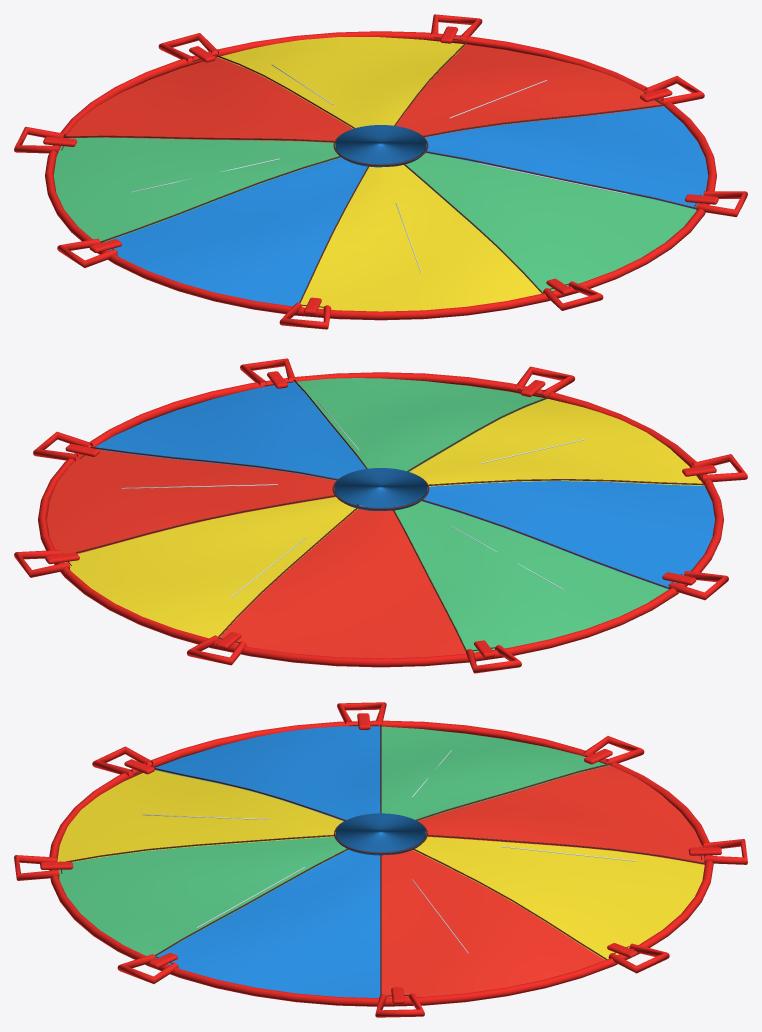
Rendered from Schwungtuch_3D.glb.
3 views of the same model, one above another, from view 1: azimuth 30°, elevation 25°; view 2: azimuth 150°, elevation 25°; view 3: azimuth 270°, elevation 25° (orthographic). The views are drawn at different scales.
Visible parts, largest first — view 1: Schwungtuch_3D__web_green_nylon_schwungtuch_fabric_panels, Schwungtuch_3D__web_blue_nylon_schwungtuch_fabric_panels, Schwungtuch_3D__web_yellow_nylon_schwungtuch_fabric_panels, Schwungtuch_3D__web_red_nylon_schwungtuch_fabric_panels, Schwungtuch_3D__web_raised_red_outer_binding_and_handles_on_, Schwungtuch_3D__web_dark_stitched_seams_on_schwungtuch_fabri, Schwungtuch_3D__web_blue_circular_center_patch_on_schwungtuc, Schwungtuch_3D__web_soft_white_sheen_streaks_on_nylon_schwun; view 2: Schwungtuch_3D__web_red_nylon_schwungtuch_fabric_panels, Schwungtuch_3D__web_yellow_nylon_schwungtuch_fabric_panels, Schwungtuch_3D__web_green_nylon_schwungtuch_fabric_panels, Schwungtuch_3D__web_blue_nylon_schwungtuch_fabric_panels, Schwungtuch_3D__web_raised_red_outer_binding_and_handles_on_, Schwungtuch_3D__web_dark_stitched_seams_on_schwungtuch_fabri, Schwungtuch_3D__web_blue_circular_center_patch_on_schwungtuc, Schwungtuch_3D__web_soft_white_sheen_streaks_on_nylon_schwun; view 3: Schwungtuch_3D__web_red_nylon_schwungtuch_fabric_panels, Schwungtuch_3D__web_yellow_nylon_schwungtuch_fabric_panels, Schwungtuch_3D__web_blue_nylon_schwungtuch_fabric_panels, Schwungtuch_3D__web_green_nylon_schwungtuch_fabric_panels, Schwungtuch_3D__web_raised_red_outer_binding_and_handles_on_, Schwungtuch_3D__web_dark_stitched_seams_on_schwungtuch_fabri, Schwungtuch_3D__web_blue_circular_center_patch_on_schwungtuc, Schwungtuch_3D__web_soft_white_sheen_streaks_on_nylon_schwun.
Boxes of the visible parts, <box> form: Schwungtuch_3D__web_green_nylon_schwungtuch_fabric_panels: <box>53,137,696,292</box>; Schwungtuch_3D__web_blue_nylon_schwungtuch_fabric_panels: <box>106,106,708,306</box>; Schwungtuch_3D__web_yellow_nylon_schwungtuch_fabric_panels: <box>217,37,541,311</box>; Schwungtuch_3D__web_red_nylon_schwungtuch_fabric_panels: <box>65,44,663,142</box>; Schwungtuch_3D__web_raised_red_outer_binding_and_handles_on_: <box>14,14,747,329</box>; Schwungtuch_3D__web_dark_stitched_seams_on_schwungtuch_fabri: <box>61,37,700,307</box>; Schwungtuch_3D__web_blue_circular_center_patch_on_schwungtuc: <box>335,125,426,167</box>; Schwungtuch_3D__web_soft_white_sheen_streaks_on_nylon_schwun: <box>130,64,628,273</box>; Schwungtuch_3D__web_red_nylon_schwungtuch_fabric_panels: <box>47,450,465,658</box>; Schwungtuch_3D__web_yellow_nylon_schwungtuch_fabric_panels: <box>64,399,704,638</box>; Schwungtuch_3D__web_green_nylon_schwungtuch_fabric_panels: <box>295,378,668,652</box>; Schwungtuch_3D__web_blue_nylon_schwungtuch_fabric_panels: <box>95,382,714,589</box>; Schwungtuch_3D__web_raised_red_outer_binding_and_handles_on_: <box>14,358,747,673</box>; Schwungtuch_3D__web_dark_stitched_seams_on_schwungtuch_fabri: <box>62,379,704,651</box>; Schwungtuch_3D__web_blue_circular_center_patch_on_schwungtuc: <box>334,468,427,510</box>; Schwungtuch_3D__web_soft_white_sheen_streaks_on_nylon_schwun: <box>121,400,585,598</box>; Schwungtuch_3D__web_red_nylon_schwungtuch_fabric_panels: <box>381,765,704,997</box>; Schwungtuch_3D__web_yellow_nylon_schwungtuch_fabric_panels: <box>57,770,704,959</box>; Schwungtuch_3D__web_blue_nylon_schwungtuch_fabric_panels: <box>154,726,380,997</box>; Schwungtuch_3D__web_green_nylon_schwungtuch_fabric_panels: <box>58,726,609,956</box>; Schwungtuch_3D__web_raised_red_outer_binding_and_handles_on_: <box>14,702,747,1017</box>; Schwungtuch_3D__web_dark_stitched_seams_on_schwungtuch_fabri: <box>60,724,705,996</box>; Schwungtuch_3D__web_blue_circular_center_patch_on_schwungtuc: <box>336,813,425,855</box>; Schwungtuch_3D__web_soft_white_sheen_streaks_on_nylon_schwun: <box>142,750,635,953</box>.
Size of the model in its own units: 3.02 by 0.1591 by 3.02.
